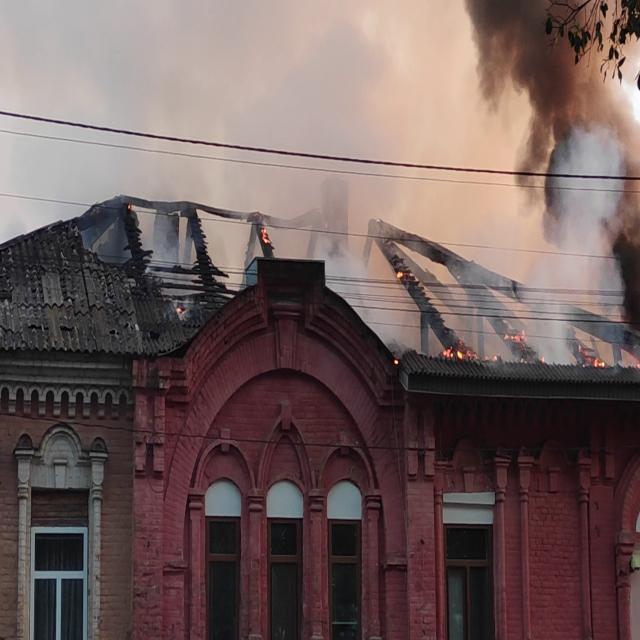fire: (501, 315, 542, 361)
smoke: (468, 0, 568, 131), (305, 80, 371, 184), (617, 238, 640, 338)
